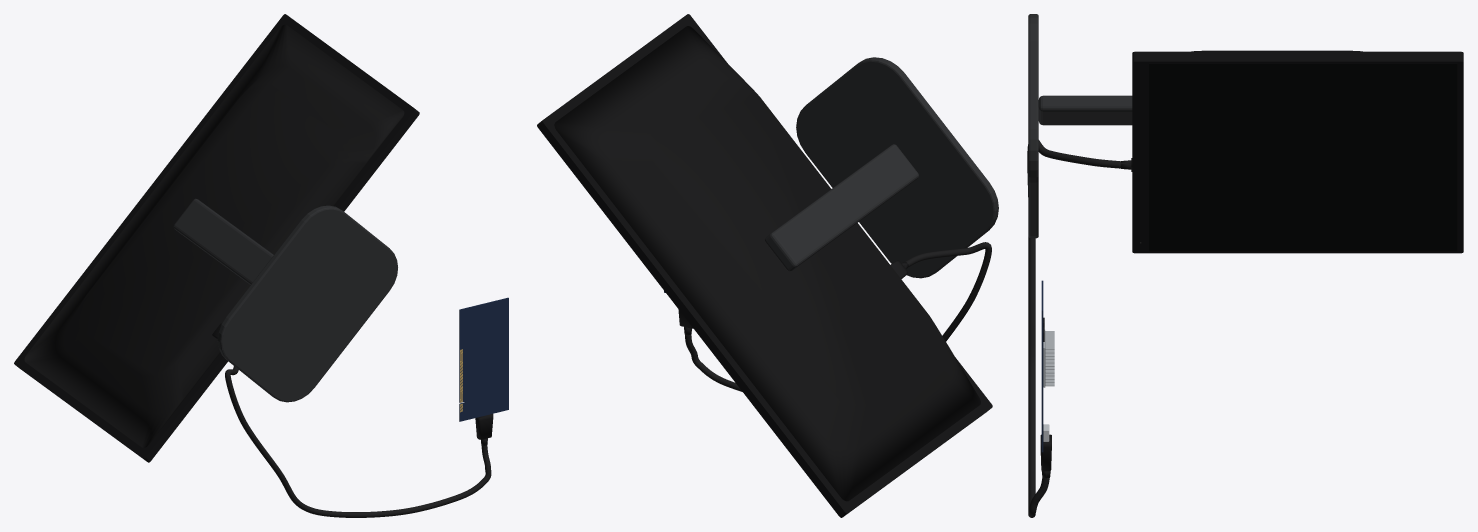
The model's file is pcie-display-BnXEk4rh.glb.
3 views of the same model, side by side, from view 1: azimuth 30°, elevation 25°; view 2: azimuth 150°, elevation 25°; view 3: azimuth 270°, elevation 25° (orthographic). The views are drawn at different scales.
Visible parts, largest first — view 1: monitor_housing, monitor_base, monitor_panel, card_pcb, monitor_neck, hdmi_cable; view 2: monitor_housing, monitor_base, monitor_panel, monitor_neck, hdmi_cable; view 3: screen_glass, monitor_panel, hdmi_cable, monitor_neck, monitor_base, card_heatsink, card_pcb.
Part boxes in pixels (box(x1,y1,x2,y2)): monitor_housing: box(24, 24, 404, 447); monitor_base: box(217, 205, 397, 402); monitor_panel: box(14, 14, 419, 462); card_pcb: box(459, 297, 508, 421); monitor_neck: box(173, 198, 273, 284); hdmi_cable: box(225, 366, 491, 517); monitor_housing: box(554, 26, 980, 501); monitor_base: box(796, 57, 998, 278); monitor_panel: box(537, 14, 992, 517); monitor_neck: box(764, 144, 918, 271); hdmi_cable: box(685, 242, 991, 391); screen_glass: box(1149, 63, 1457, 251); monitor_panel: box(1132, 51, 1463, 253); hdmi_cable: box(1027, 140, 1120, 517); monitor_neck: box(1038, 95, 1132, 125); monitor_base: box(1028, 14, 1038, 238); card_heatsink: box(1043, 330, 1054, 387); card_pcb: box(1041, 280, 1043, 452).
Bounding box in the file's own units: 0.4618 × 0.4894 × 0.4195.
